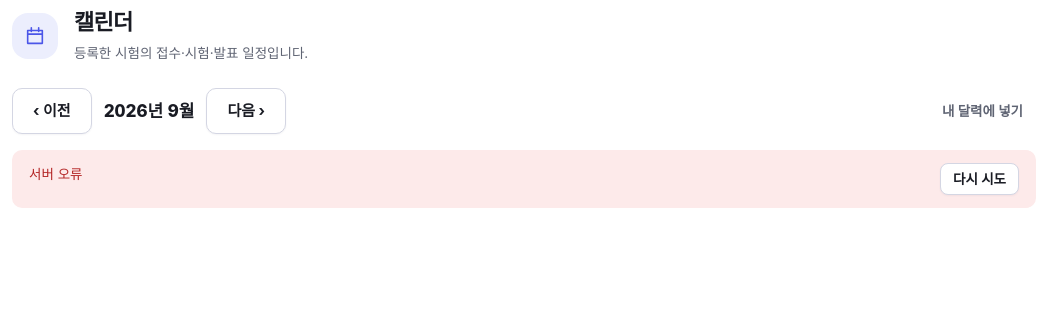
CalendarPage › 조회가 실패하면 "일정 없음"이 아니라 오류와 다시 시도를 보여준다
This screenshot has width=1048, height=310.
Check: the text "서버 오류" is shown, box 29,163 -> 82,185
Check: the text "이 달 일정이 없습니다" is not shown
Click the button "다시 시도" at (980, 179), box 940,163 -> 1019,195
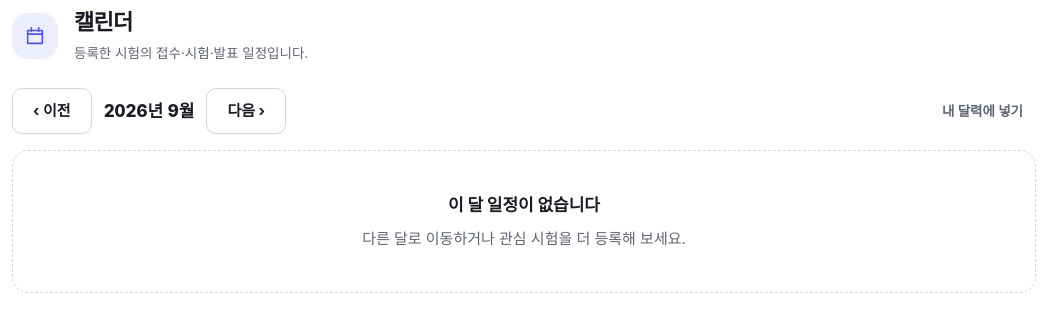
Check: the text "이 달 일정이 없습니다" is shown, box 448,195 -> 600,215
